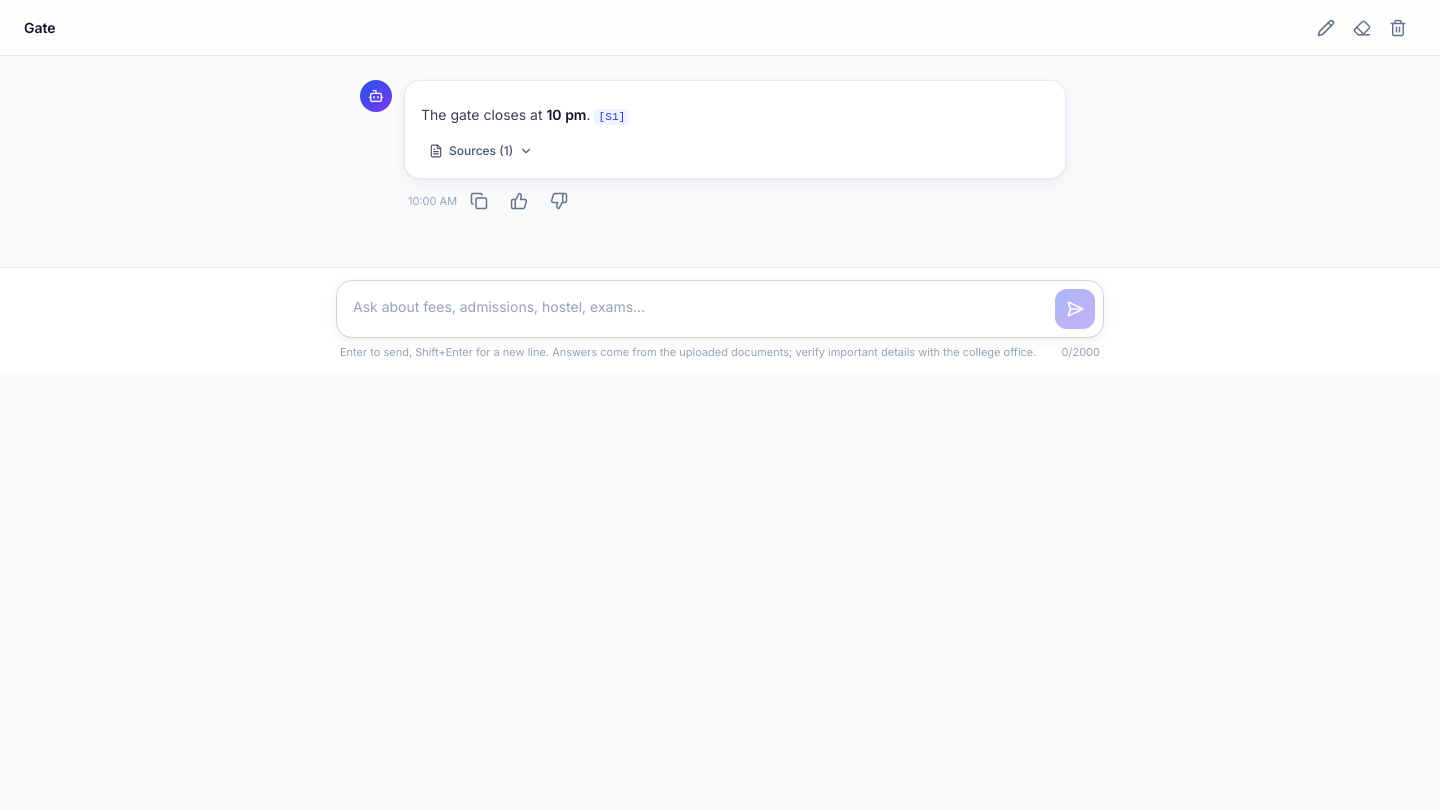
Scenario: Chat page › deletes a chat after confirmation and returns to a new chat
The image size is (1440, 810).
Click the button named "Delete chat".
click(1398, 28)  # box [1380, 10, 1416, 46]
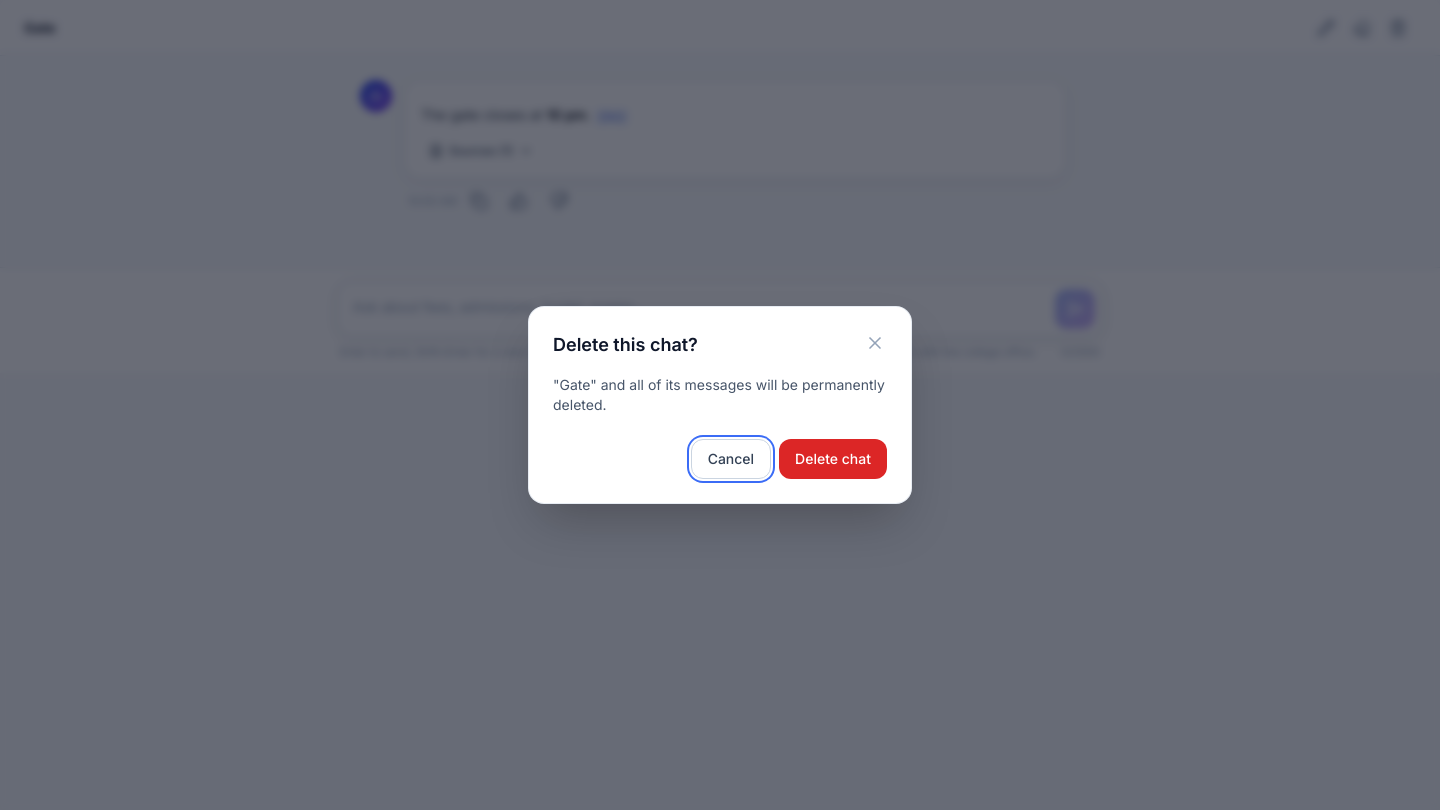
Click the button "Delete chat".
click(833, 459)  # box [779, 439, 887, 479]
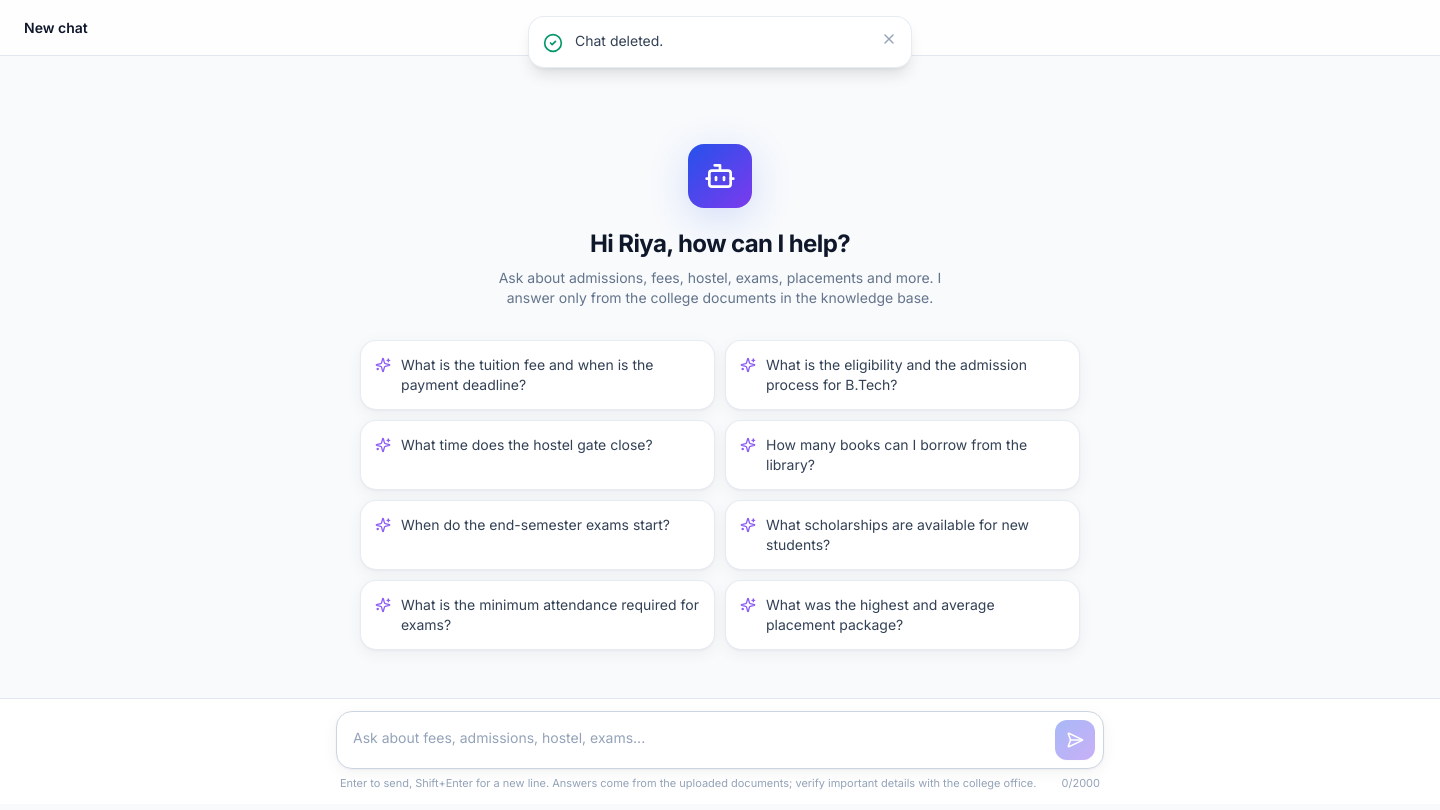
Now the heading "Hi Riya, how can I help?" is shown, box [590, 228, 850, 260]
